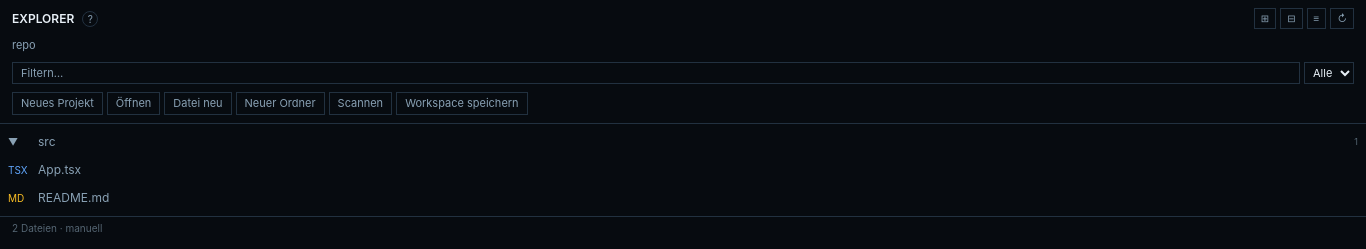
it: WorkspaceExplorer › renders workspace rows and collapses folders
Click the button "▼ src 1". click: click(13, 142)
box: [8,134,1358,148]
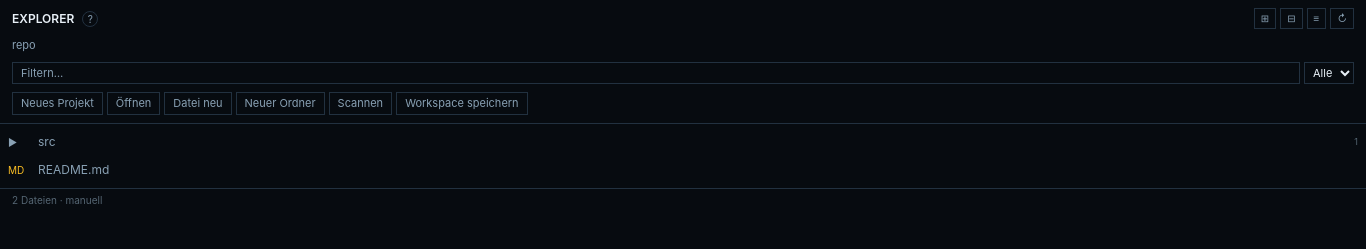
Expected: the text "README.md" is shown, [38,162,109,176]
Now the text "App.tsx" is gone
